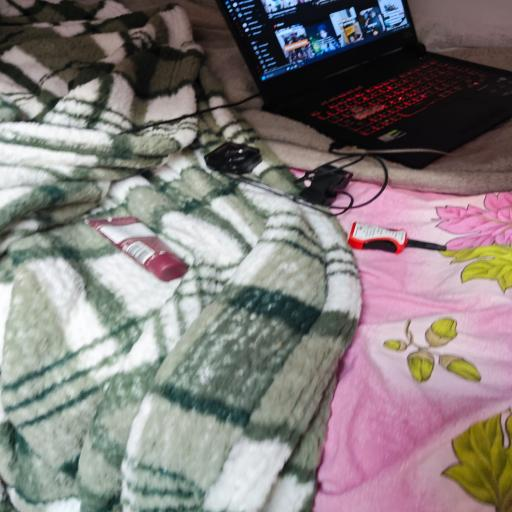Crema Maini: (82, 213, 185, 282)
Super Glue: (345, 217, 445, 256)
